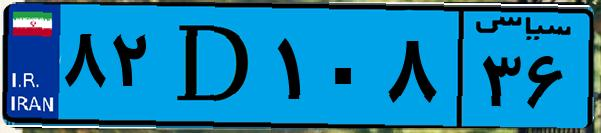0: (330, 28, 385, 110)
1: (270, 28, 330, 110)
2: (110, 28, 158, 98)
3: (475, 38, 525, 113)
6: (525, 38, 570, 115)
8: (385, 28, 445, 110), (57, 26, 110, 100)
D: (158, 12, 270, 120)
